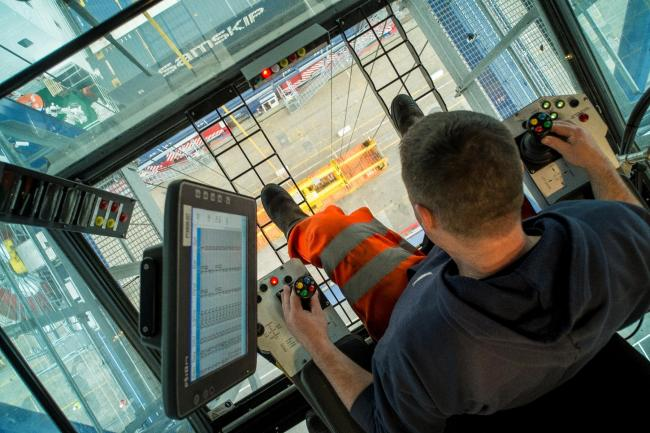crane-operator: (0, 0, 295, 104)
